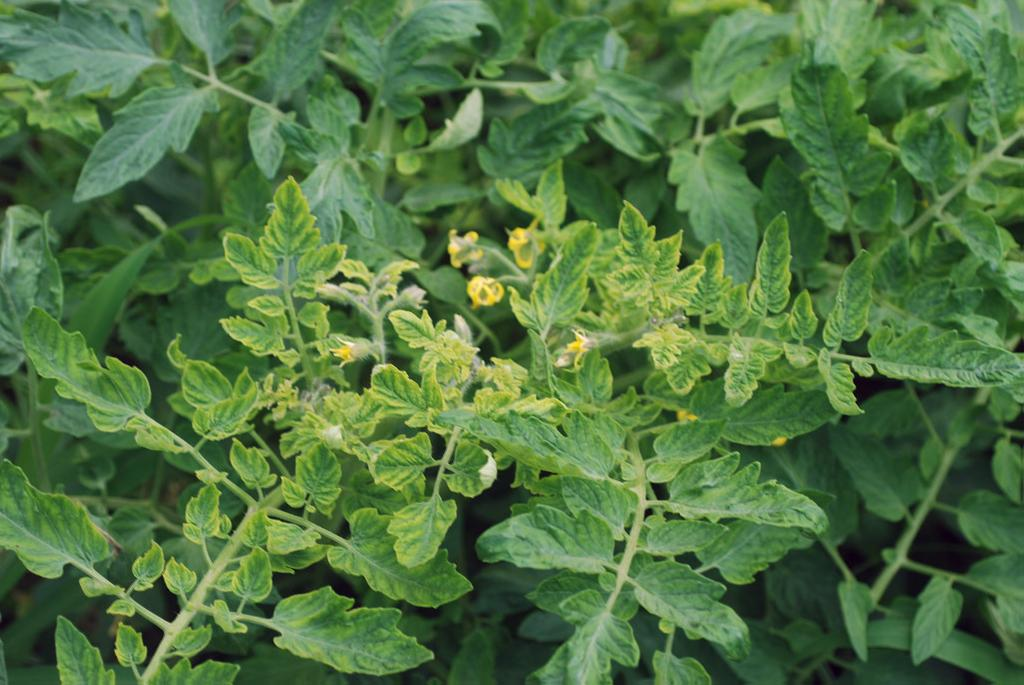Tomato leaf yellow virus: (24, 302, 146, 438), (327, 502, 480, 609), (272, 593, 442, 679), (470, 401, 626, 494), (1, 462, 107, 585), (870, 325, 1024, 397), (637, 567, 752, 658), (480, 507, 622, 576), (532, 221, 601, 335), (257, 178, 333, 267), (641, 322, 711, 408), (280, 440, 352, 522), (749, 207, 799, 318), (389, 500, 461, 574), (375, 362, 444, 435), (223, 231, 293, 301), (649, 417, 735, 469), (368, 432, 438, 494), (611, 198, 662, 280), (196, 387, 262, 449), (812, 352, 869, 416), (445, 442, 498, 501), (717, 353, 766, 415), (221, 316, 288, 360), (125, 535, 171, 599), (228, 438, 279, 495), (575, 350, 621, 410), (237, 548, 278, 611), (182, 482, 222, 545), (386, 307, 445, 345), (115, 620, 152, 680), (164, 556, 204, 601)
